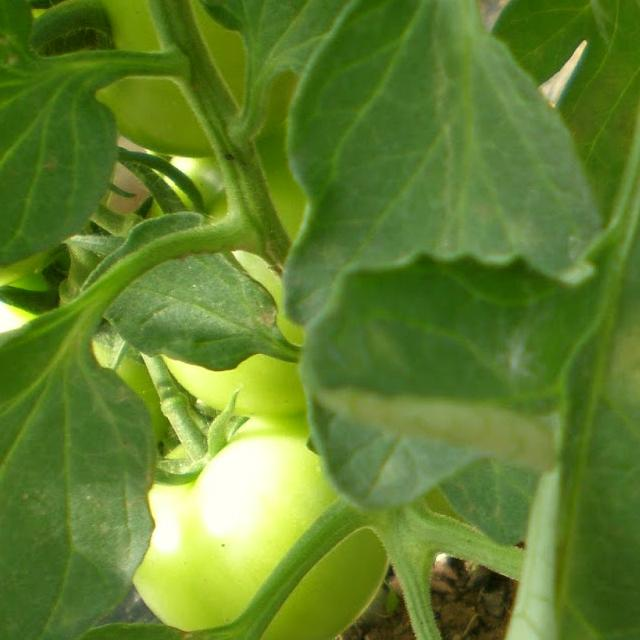Tomato mold leaf: (273, 0, 606, 303), (470, 344, 640, 640), (0, 602, 307, 640), (633, 0, 640, 640)
